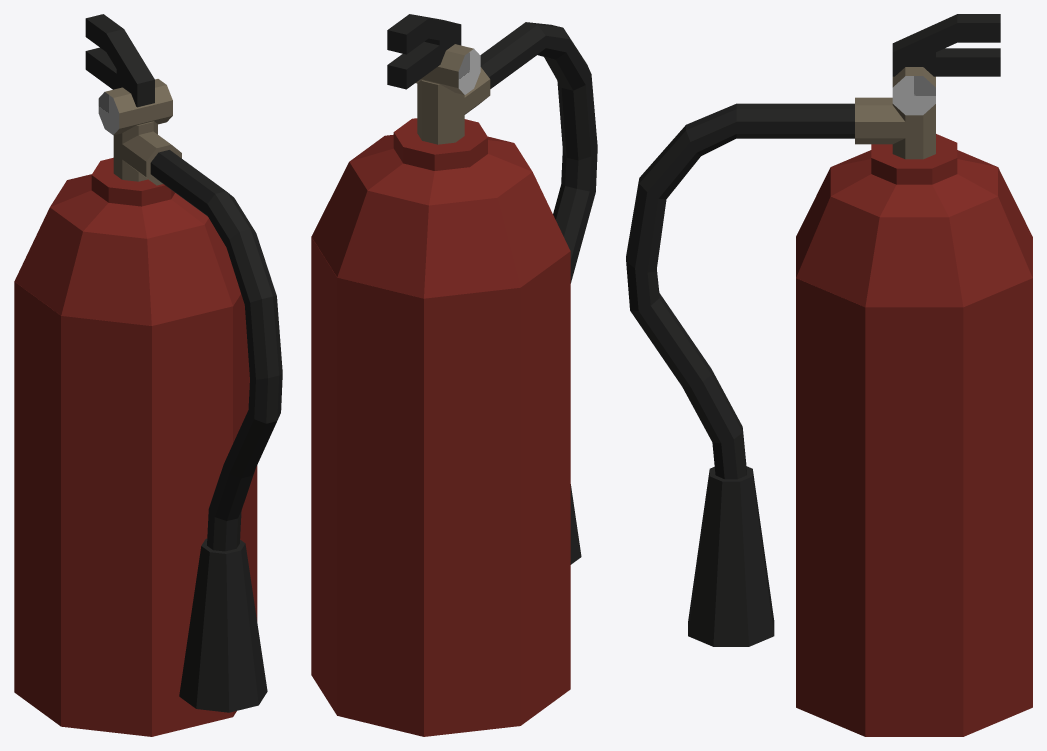
Rendered from fireextinguisher_idle.glb.
3 views of the same model, side by side, from view 1: azimuth 30°, elevation 25°; view 2: azimuth 150°, elevation 25°; view 3: azimuth 270°, elevation 25° (orthographic). The views are drawn at different scales.
Visible parts, largest first — view 1: cylinder, sphere, cylinder.005, tube, cuboid.001, cylinder.004, cylinder.001, cylinder.003, cuboid, cylinder.002; view 2: cylinder, sphere, cylinder.005, cylinder.001, cylinder.002, cuboid.001, cylinder.004, cuboid, cylinder.003, tube; view 3: cylinder, sphere, cylinder.005, tube, cuboid.001, cylinder.001, cuboid, cylinder.003, cylinder.004, cylinder.002.
Boxes of the visible parts, x1=… form: cylinder: x1=14, y1=281, x2=257, y2=736; sphere: x1=14, y1=174, x2=240, y2=325; cylinder.005: x1=150, y1=150, x2=282, y2=551; tube: x1=179, y1=538, x2=267, y2=712; cuboid.001: x1=85, y1=14, x2=154, y2=102; cylinder.004: x1=98, y1=79, x2=172, y2=135; cylinder.001: x1=91, y1=157, x2=174, y2=206; cylinder.003: x1=116, y1=131, x2=181, y2=185; cuboid: x1=85, y1=47, x2=154, y2=107; cylinder.002: x1=113, y1=121, x2=157, y2=181; cylinder: x1=311, y1=236, x2=570, y2=736; sphere: x1=311, y1=134, x2=570, y2=298; cylinder.005: x1=480, y1=22, x2=597, y2=283; cylinder.001: x1=393, y1=118, x2=487, y2=170; cylinder.002: x1=417, y1=80, x2=464, y2=144; cuboid.001: x1=387, y1=14, x2=461, y2=59; cylinder.004: x1=416, y1=44, x2=480, y2=94; cuboid: x1=387, y1=30, x2=461, y2=89; cylinder.003: x1=457, y1=67, x2=490, y2=117; tube: x1=570, y1=484, x2=581, y2=564; cylinder: x1=796, y1=237, x2=1032, y2=736; sphere: x1=796, y1=150, x2=1032, y2=307; cylinder.005: x1=626, y1=103, x2=854, y2=479; tube: x1=688, y1=466, x2=774, y2=646; cuboid.001: x1=892, y1=14, x2=1000, y2=71; cylinder.001: x1=871, y1=134, x2=957, y2=184; cuboid: x1=892, y1=48, x2=1000, y2=76; cylinder.003: x1=855, y1=97, x2=916, y2=144; cylinder.004: x1=892, y1=67, x2=935, y2=115; cylinder.002: x1=892, y1=104, x2=935, y2=159.
Size of the model in its own units: 0.6875 by 2.14 by 1.18.
Materials: 5 (5 with a texture image).
